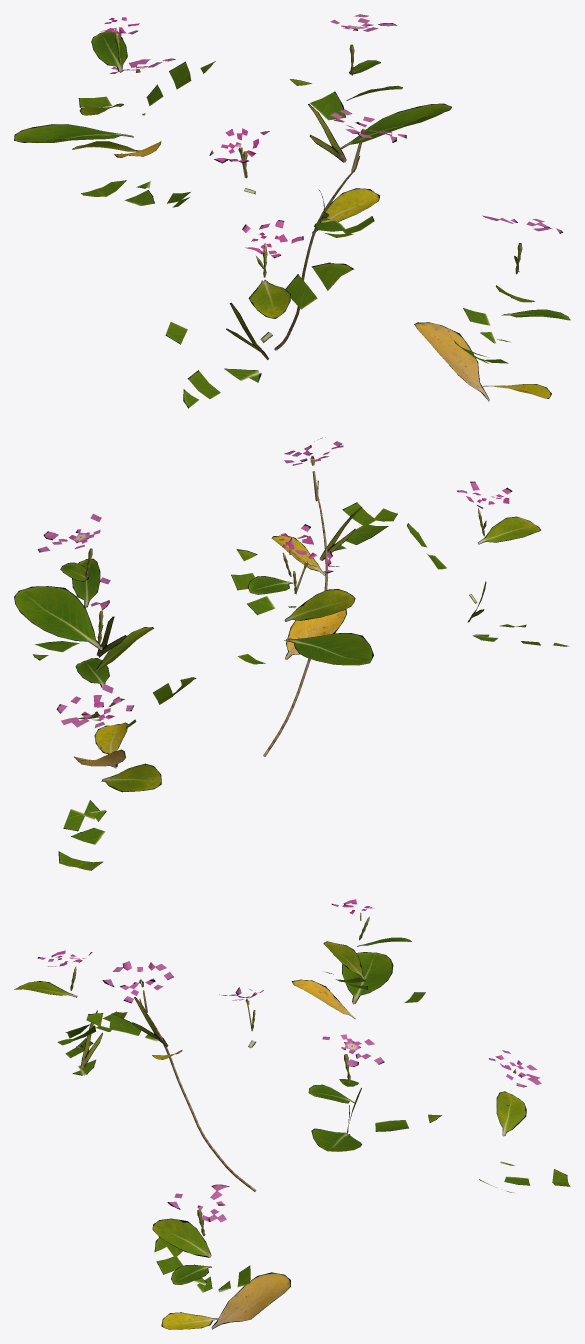
The model's file is periwinkle.gltf.
3 views of the same model, one above another, from view 1: azimuth 30°, elevation 25°; view 2: azimuth 150°, elevation 25°; view 3: azimuth 270°, elevation 25° (orthographic). The views are drawn at different scales.
Visible parts, largest first — view 1: periwinkle; view 2: periwinkle; view 3: periwinkle.
Boxes of the visible parts, x1,y1,x2,y2 form: periwinkle: (14,14,570,408); periwinkle: (14,437,569,870); periwinkle: (14,899,570,1329).
Bounding box in the file's own units: 0.489 × 0.3935 × 0.6316.
1 material, 1 textured.
